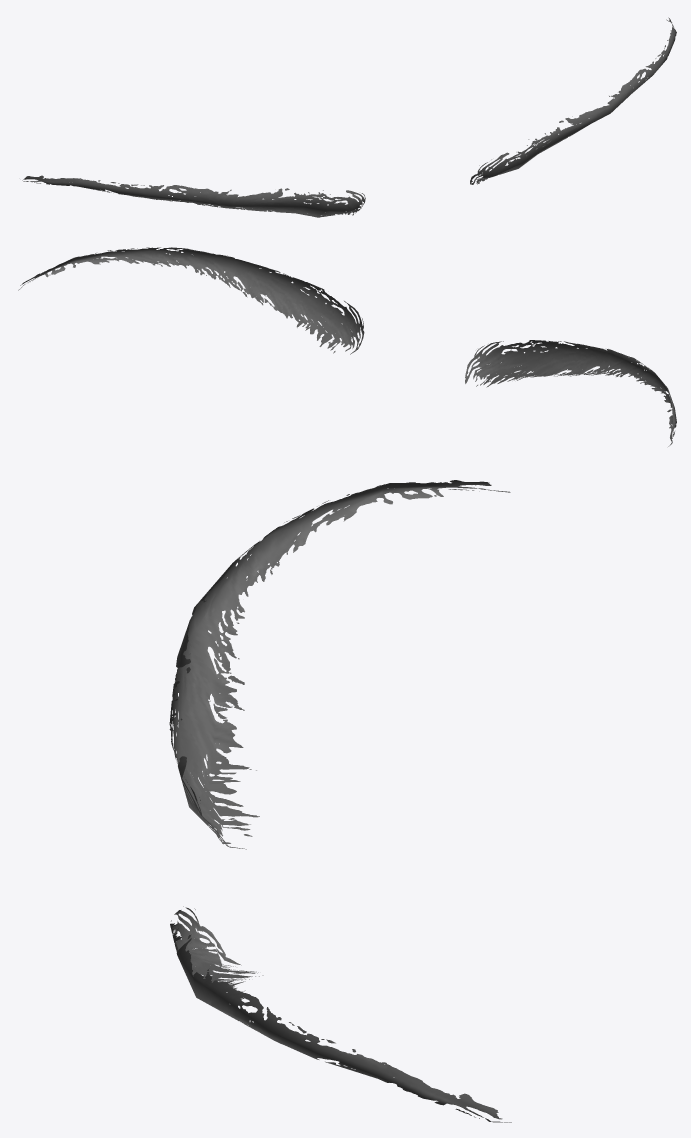
File: brow004.glb
3 renders of one model, top to bottom at view 1: azimuth 30°, elevation 25°; view 2: azimuth 150°, elevation 25°; view 3: azimuth 270°, elevation 25°, orthographic. The views are drawn at different scales.
Visible parts, largest first — view 1: editor_brow004; view 2: editor_brow004; view 3: editor_brow004.
Part boxes in pixels (x1,y1,x2,y2): editor_brow004: (22,17,676,217); editor_brow004: (18,247,676,446); editor_brow004: (169,480,511,1122).
Bounding box in the file's own units: 0.1156 × 0.0124 × 0.0271.
Materials: 1 (1 with a texture image).
